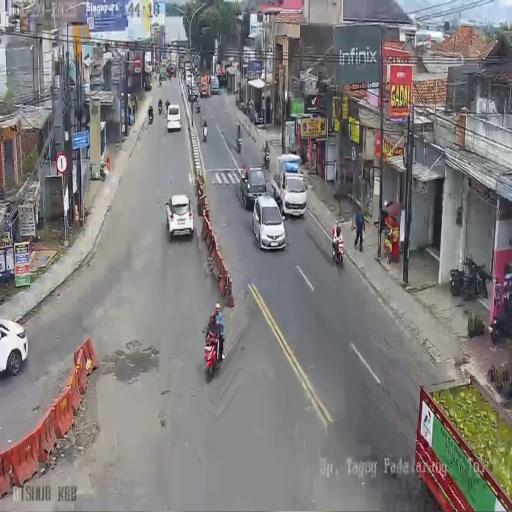3: (171, 52, 178, 71), (160, 64, 167, 82), (179, 58, 186, 74), (185, 60, 191, 76)
car: (252, 194, 286, 250), (0, 317, 28, 378), (273, 168, 307, 218), (240, 164, 269, 211), (166, 193, 194, 239), (167, 102, 182, 132), (200, 74, 210, 97), (187, 84, 198, 102), (210, 75, 219, 95)
truck: (449, 255, 491, 302), (491, 290, 512, 342), (204, 321, 223, 375), (332, 232, 344, 265), (264, 152, 270, 171), (202, 125, 208, 142), (148, 106, 153, 124), (165, 99, 170, 115), (196, 99, 201, 113), (158, 98, 162, 114)
